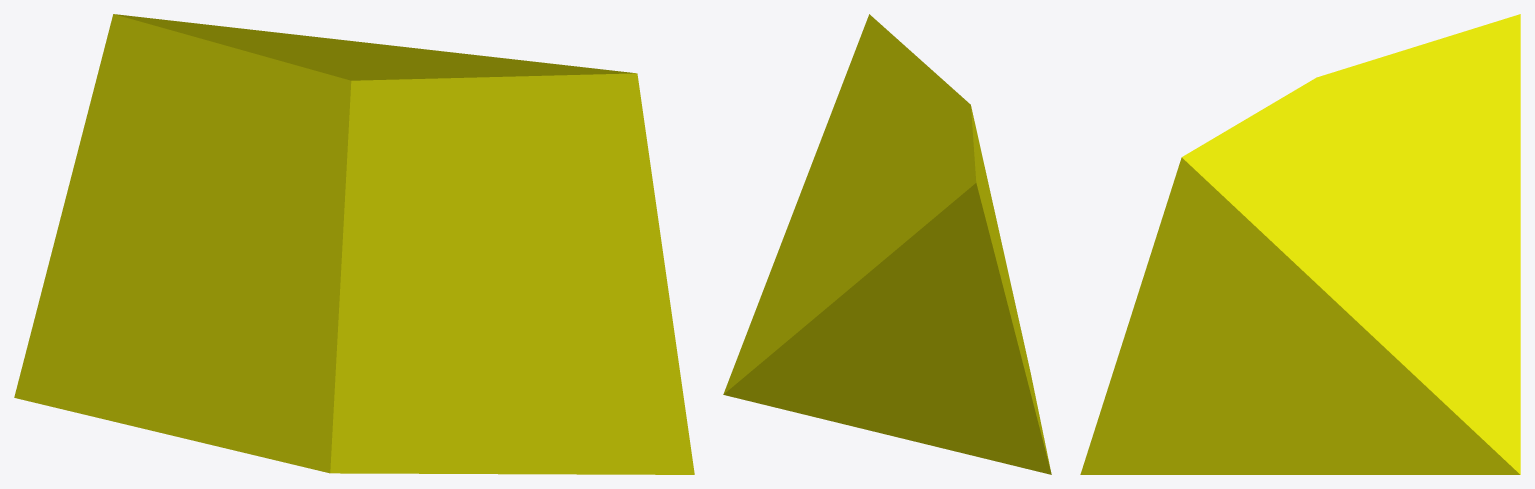
File: Ship_Light_Corner_Strip.fbx
3 renders of one model, left to right at view 1: azimuth 30°, elevation 25°; view 2: azimuth 150°, elevation 25°; view 3: azimuth 270°, elevation 25°, orthographic. The views are drawn at different scales.
Parts seen in each view (by area): view 1: Ship_Light_Corner_Strip; view 2: Ship_Light_Corner_Strip; view 3: Ship_Light_Corner_Strip.
Part boxes in pixels (x1,y1,x2,y2): Ship_Light_Corner_Strip: [14, 14, 694, 474]; Ship_Light_Corner_Strip: [723, 14, 1051, 474]; Ship_Light_Corner_Strip: [1080, 14, 1520, 474].
Bounding box in the file's own units: 24.99 × 20.58 × 25.
